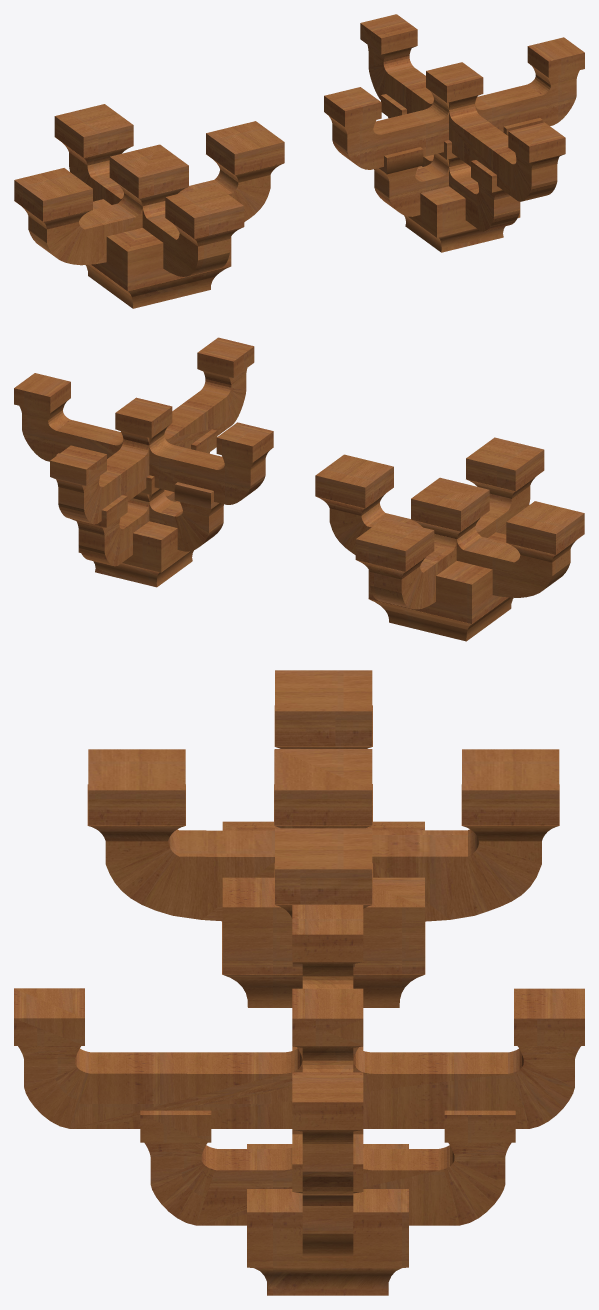
File: two.gltf
3 views of the same model, one above another, from view 1: azimuth 30°, elevation 25°; view 2: azimuth 150°, elevation 25°; view 3: azimuth 270°, elevation 25° (orthographic). The views are drawn at different scales.
Visible parts, largest first — view 1: root; view 2: root; view 3: root.
Part boxes in pixels (<box>): root: <box>14,14,584,308</box>; root: <box>14,337,584,641</box>; root: <box>14,670,584,1295</box>.
Bounding box in the file's own units: 5.1 × 1.41 × 2.73.
2 materials, 1 textured.
